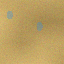person: (6, 10, 12, 19), (36, 21, 42, 30)
